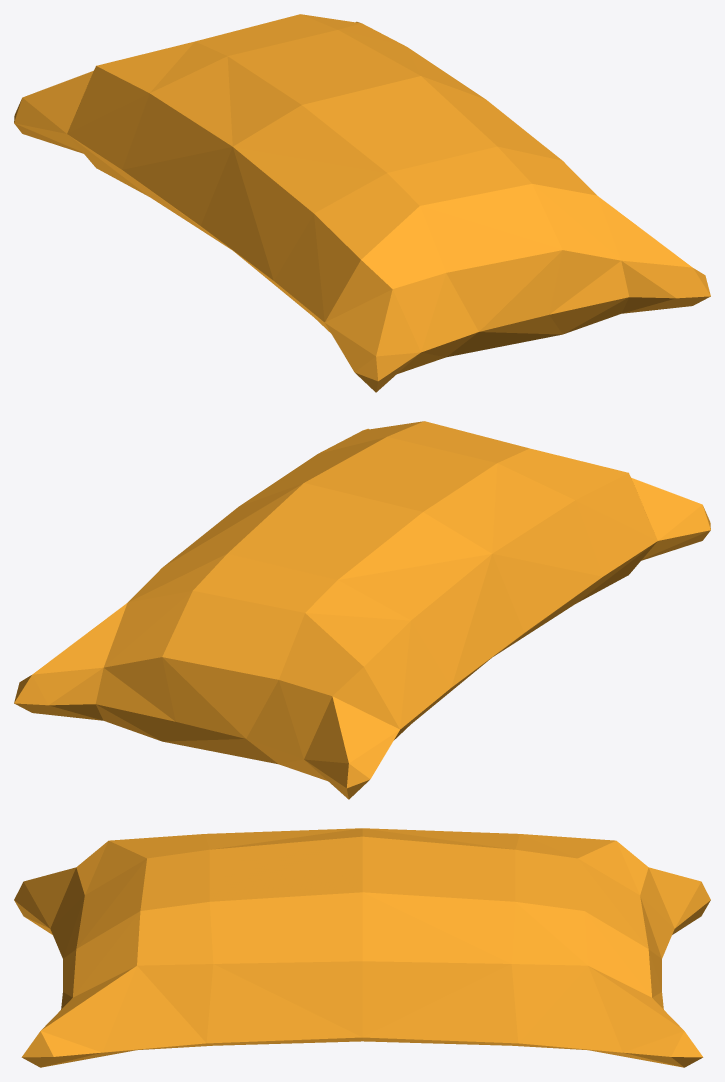
File: SM_Bag_Lying_Full_A_Farm.fbx
The picture shows the model from 3 angles, top to bottom: view 1: azimuth 30°, elevation 25°; view 2: azimuth 150°, elevation 25°; view 3: azimuth 270°, elevation 25°; orthographic projection. The views are drawn at different scales.
Parts seen in each view (by area): view 1: bag-lying-full-a-farm; view 2: bag-lying-full-a-farm; view 3: bag-lying-full-a-farm.
Boxes of the visible parts, x1,y1,x2,y2 form: bag-lying-full-a-farm: (14,14,710,392); bag-lying-full-a-farm: (14,421,710,799); bag-lying-full-a-farm: (14,828,710,1067).
Bounding box in the file's own units: 0.5732 × 0.2296 × 1.
